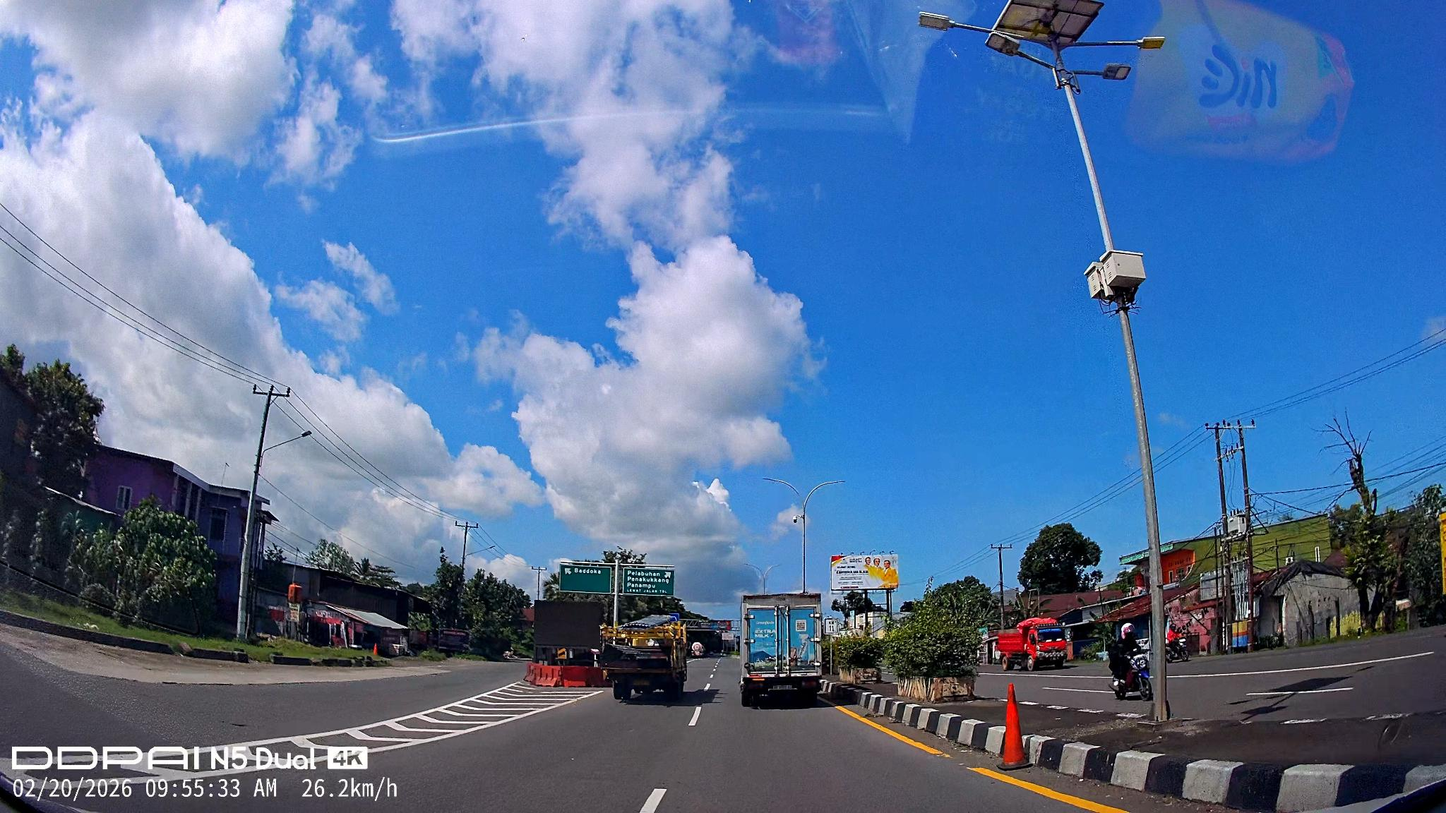rambu_teks: (558, 564, 612, 595), (621, 567, 675, 597)
